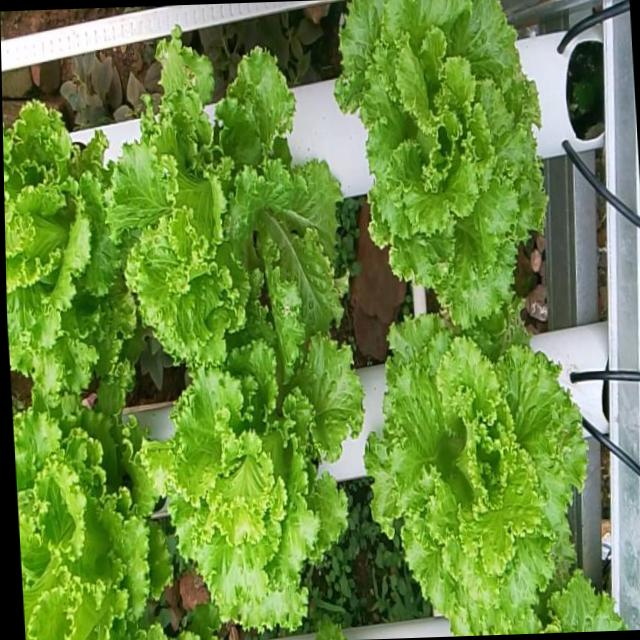Mature: (110, 16, 342, 372), (364, 316, 608, 636), (335, 0, 548, 335), (143, 339, 364, 638), (12, 382, 170, 640), (3, 106, 134, 399)
